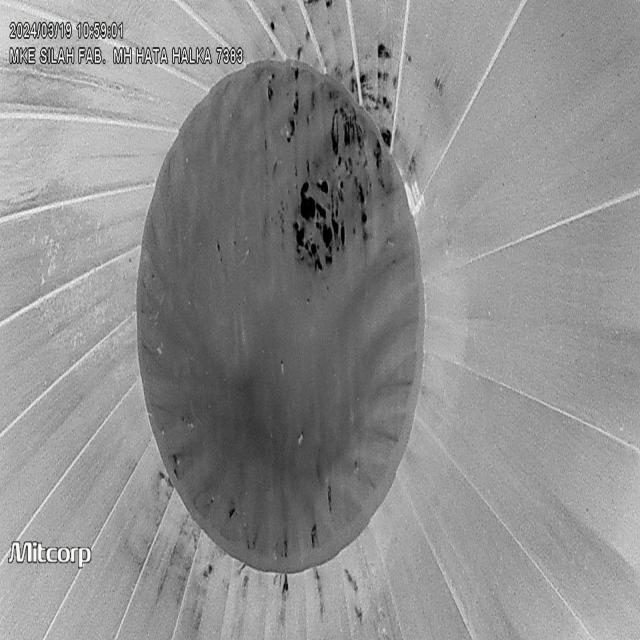hata_9.3: (398, 154, 438, 232)
